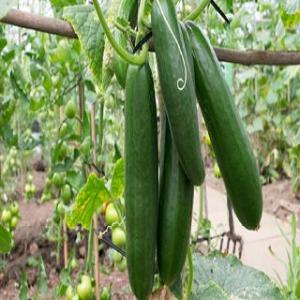cucumber: (184, 19, 266, 232), (152, 1, 204, 188), (122, 50, 158, 298), (157, 93, 194, 289)
